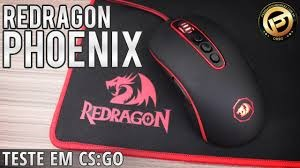mouse: (138, 9, 271, 157)
